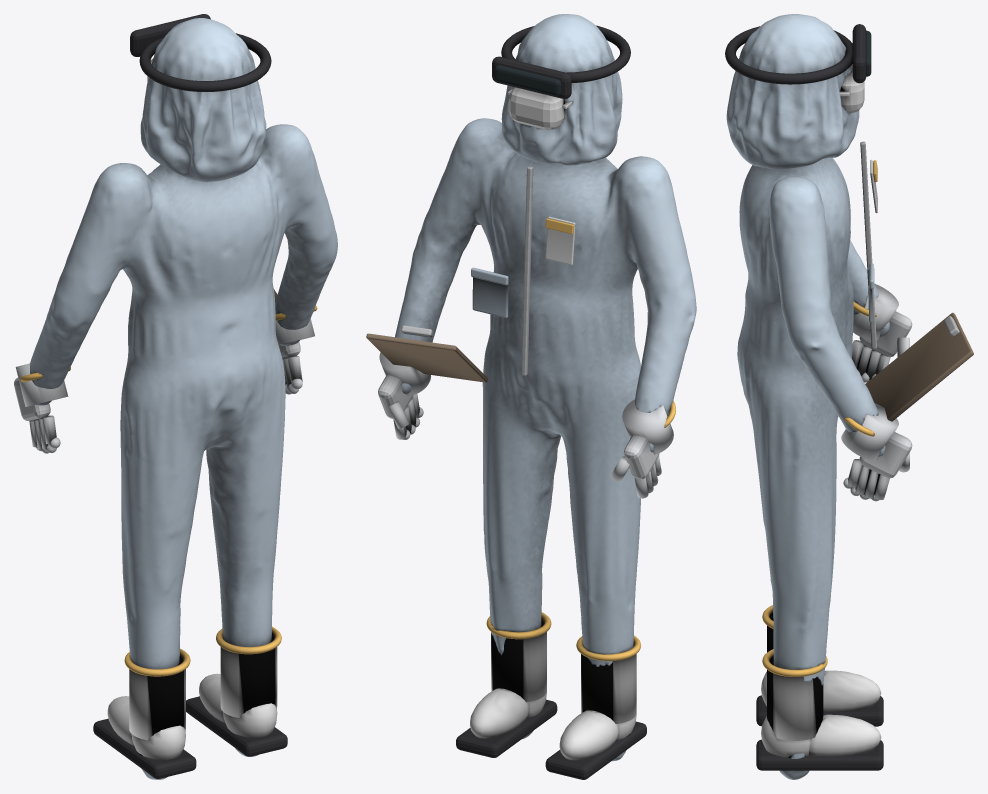
File: staff-archivist.glb
The picture shows the model from 3 angles, left to right: view 1: azimuth 30°, elevation 25°; view 2: azimuth 150°, elevation 25°; view 3: azimuth 270°, elevation 25°; orthographic projection.
Parts seen in each view (by area): view 1: Staff; view 2: Staff; view 3: Staff.
Part boxes in pixels (left/top/right/bottom): Staff: left=14, top=14, right=337, bottom=779; Staff: left=366, top=14, right=696, bottom=779; Staff: left=725, top=14, right=973, bottom=779.
Size of the model in its own units: 0.734 by 1.79 by 0.5474.
